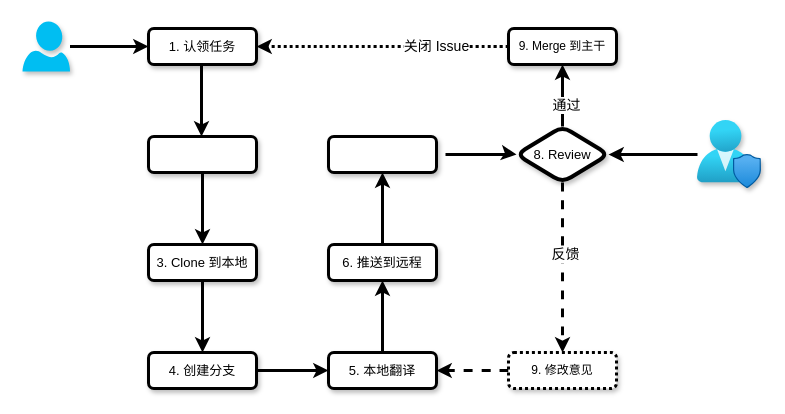
This 785x414 diagram has some shape labels left out. The shapes that lost their labels are listed below. From the top down, each one's centre as x and y in pixels, then its label:
At point 47,47: "Contributor".
At point 203,155: "2. Fork 项目".
At point 383,155: "7. 创建 PR".
At point 730,155: "Reviewer".
